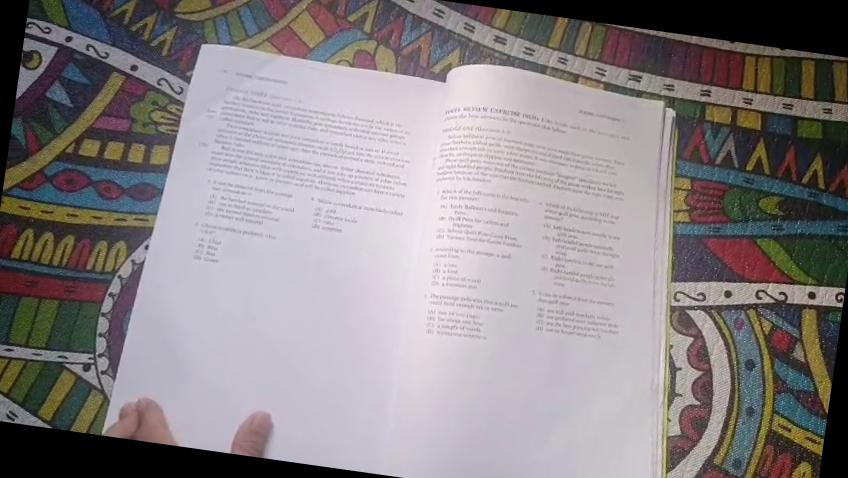Kertas: (152, 42, 489, 430), (388, 77, 676, 478)
